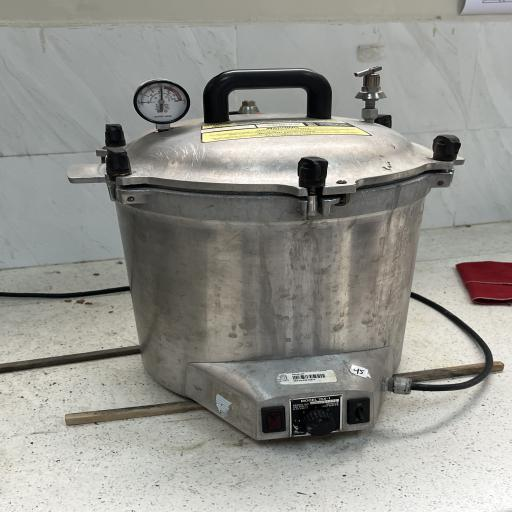Autoclave: (59, 58, 473, 456)
